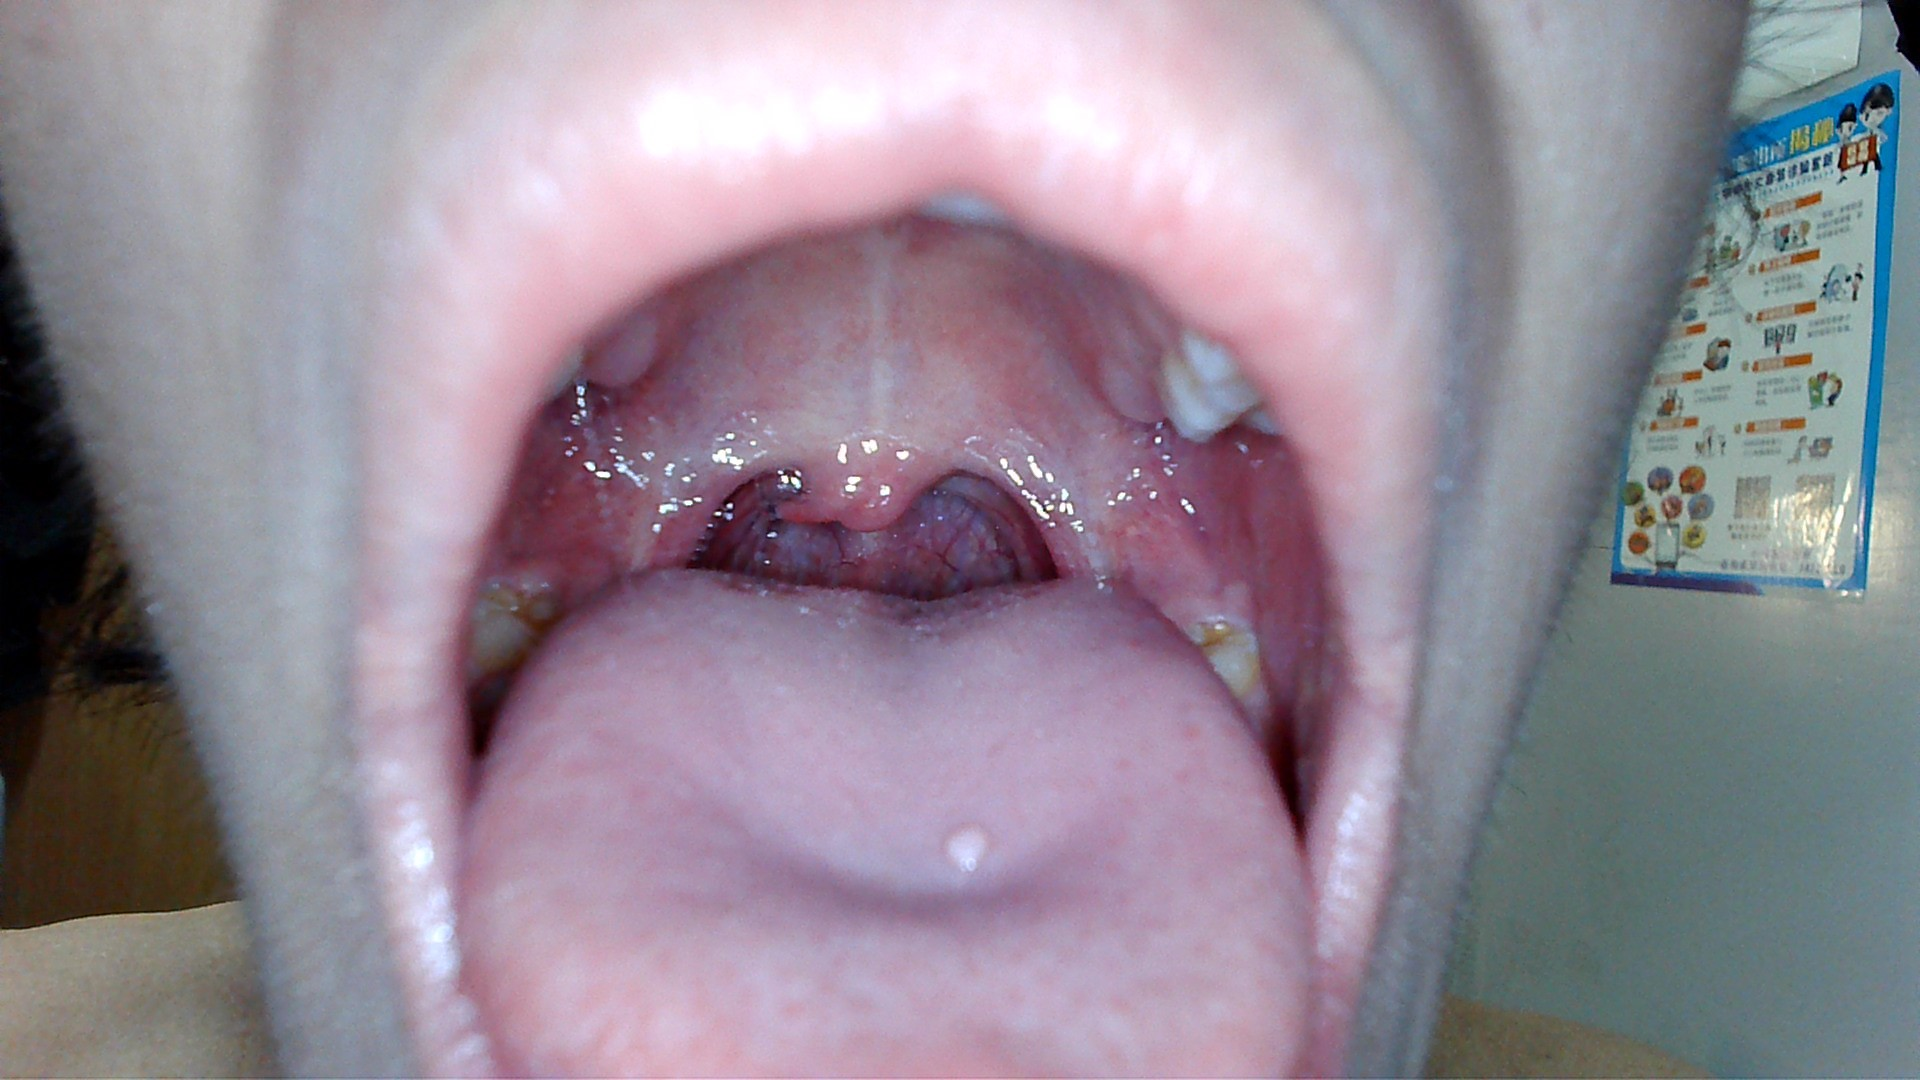throat: (971, 411, 1083, 576), (634, 433, 735, 572)
